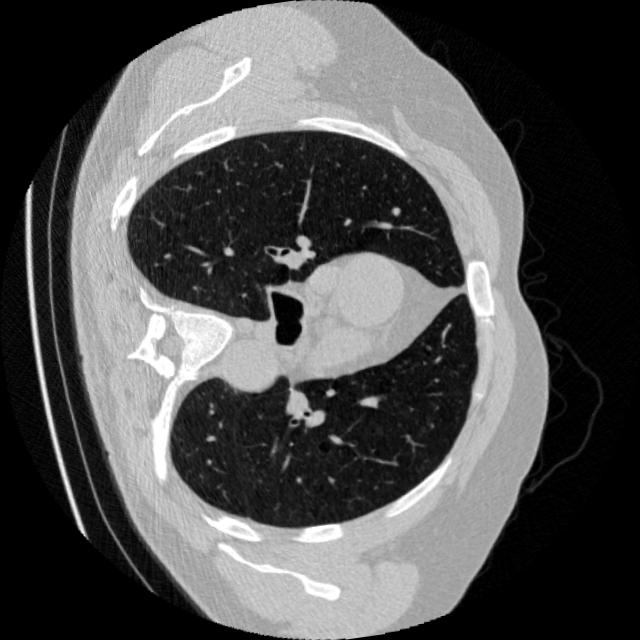nodule: (384, 197, 409, 222)
